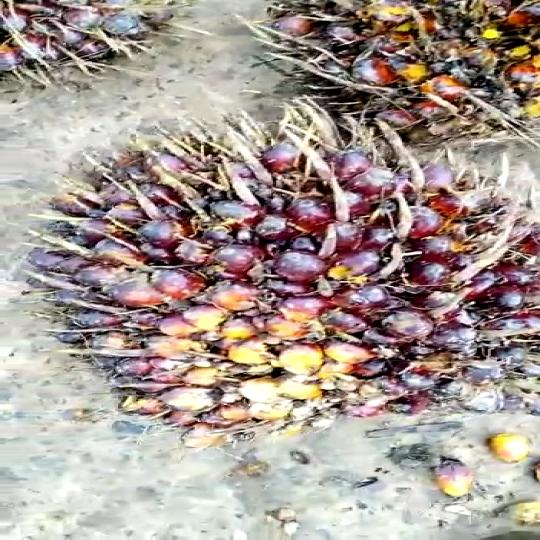masak: (50, 108, 540, 426), (216, 0, 540, 150)
